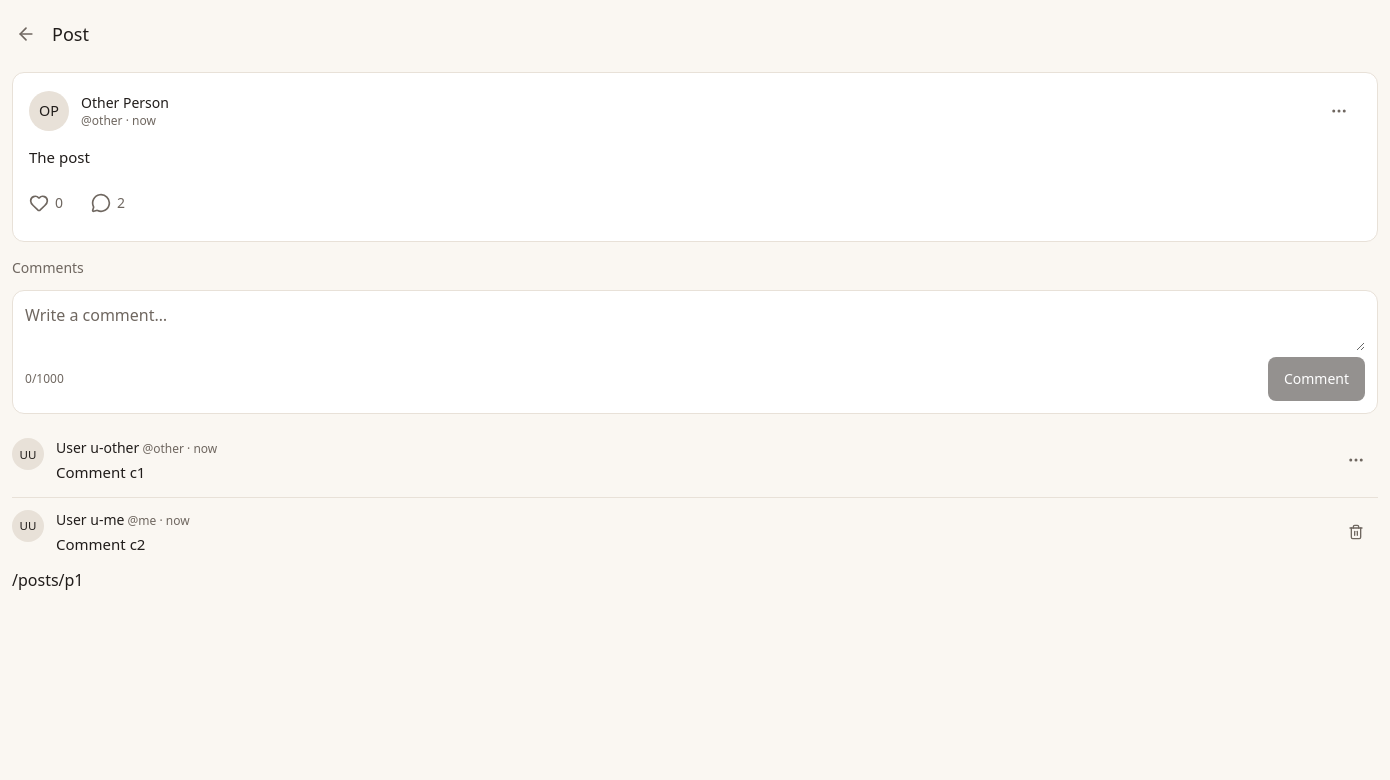
Test: PostDetailPage › adds a comment at the end and bumps the comment count
The image size is (1390, 780).
Expected: the text "Comment c2" is shown, [56,534,145,554]
Expected: the element named "2 comments" is shown, [91,193,125,213]
Type "  Brand new  " into the text box labelled "Write a comment" at (695, 327), box [25,303,1365,351]
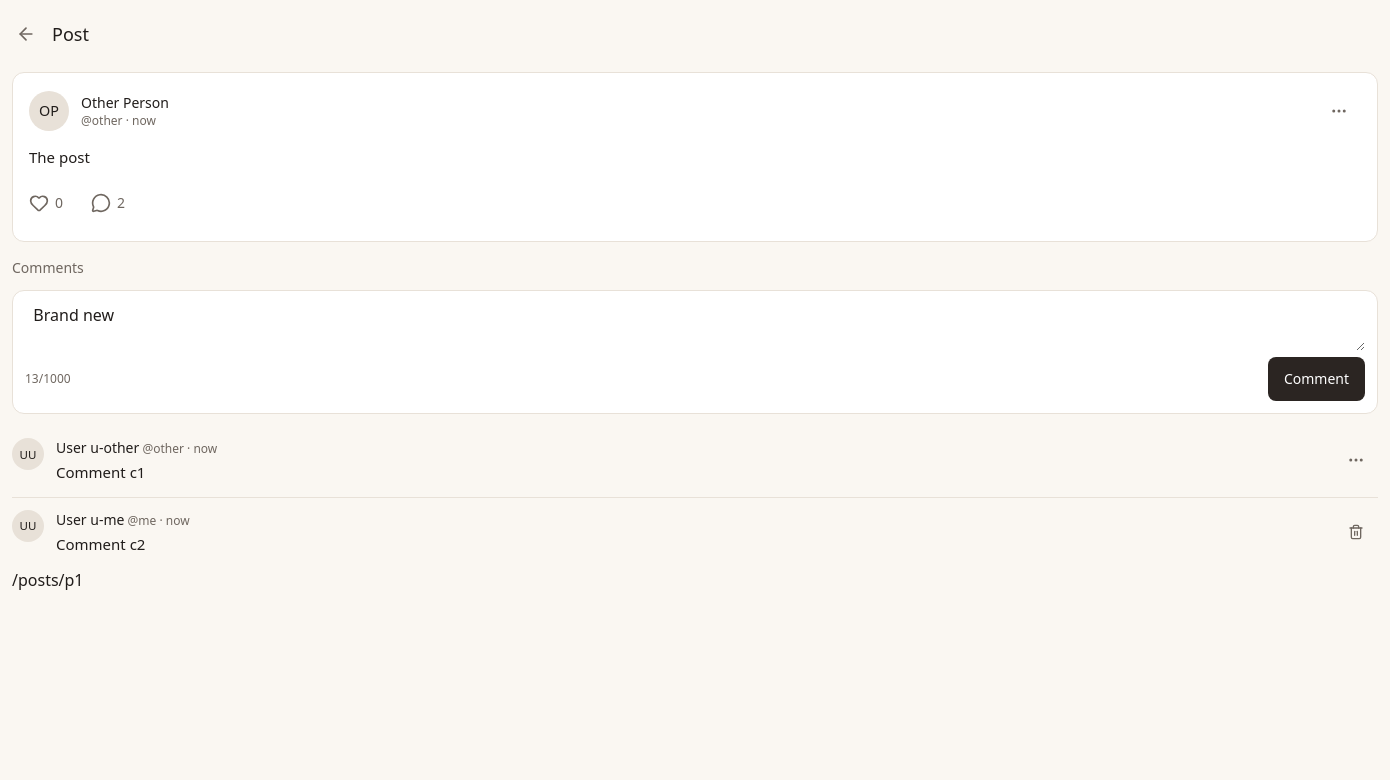
Click the button "Comment" at (1316, 379), box [1268,357,1365,401]
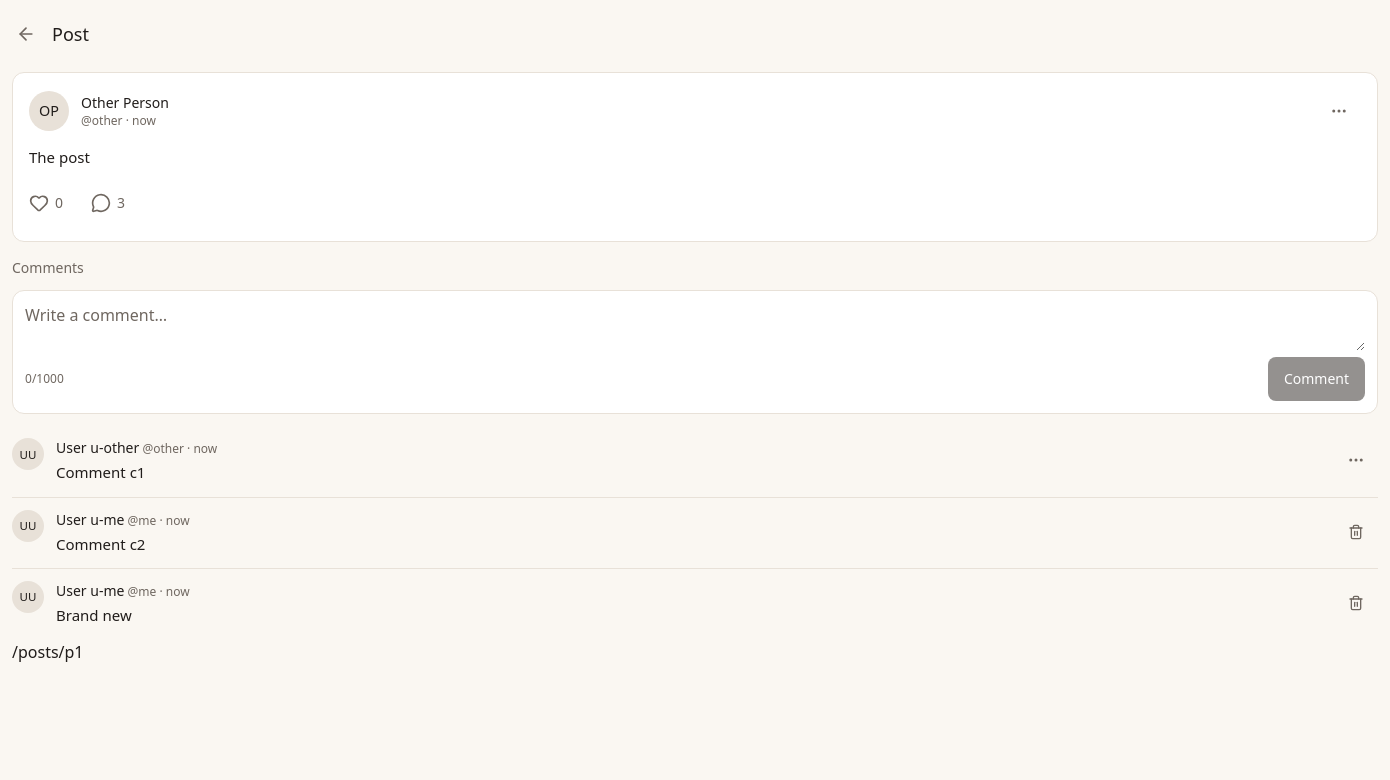
Expected: the text "Brand new" is shown, [56,605,132,625]
Expected: the element named "3 comments" is shown, [91,193,125,213]
